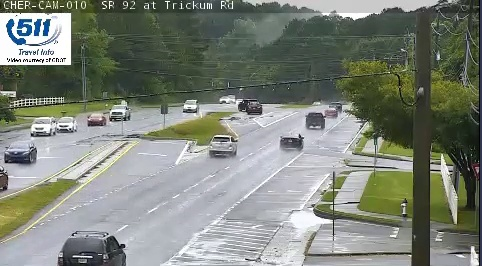car: (58, 233, 127, 266), (209, 135, 236, 154), (280, 133, 303, 148), (306, 112, 324, 126)
